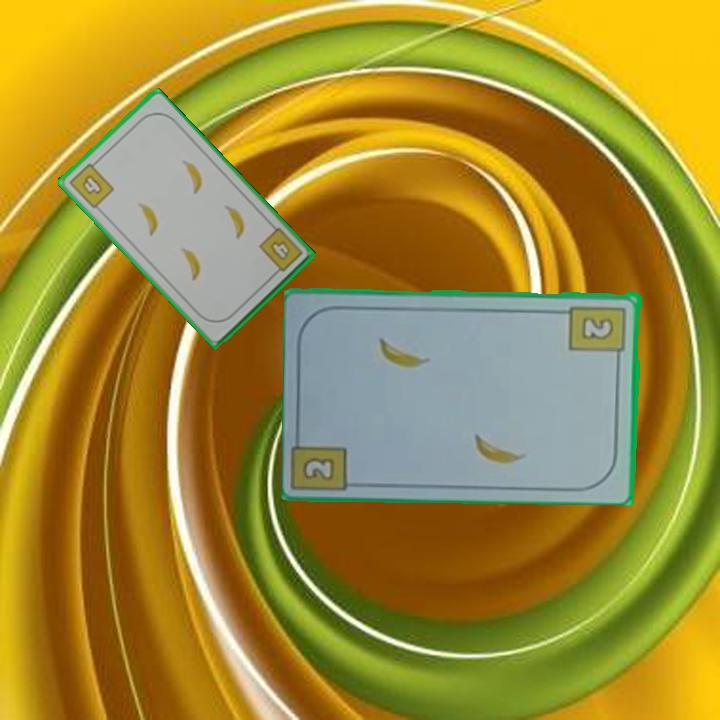2b: (567, 302, 629, 364), (299, 454, 338, 483)
4b: (65, 156, 117, 212), (255, 224, 305, 279)
